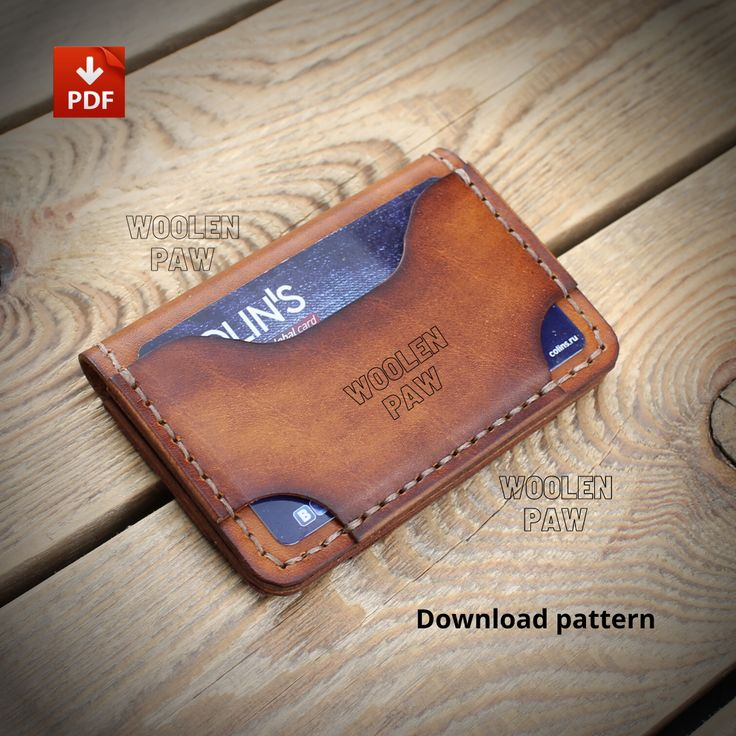cuero: (78, 146, 619, 595)
